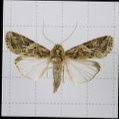Spodoptera litura: (3, 18, 113, 93)
